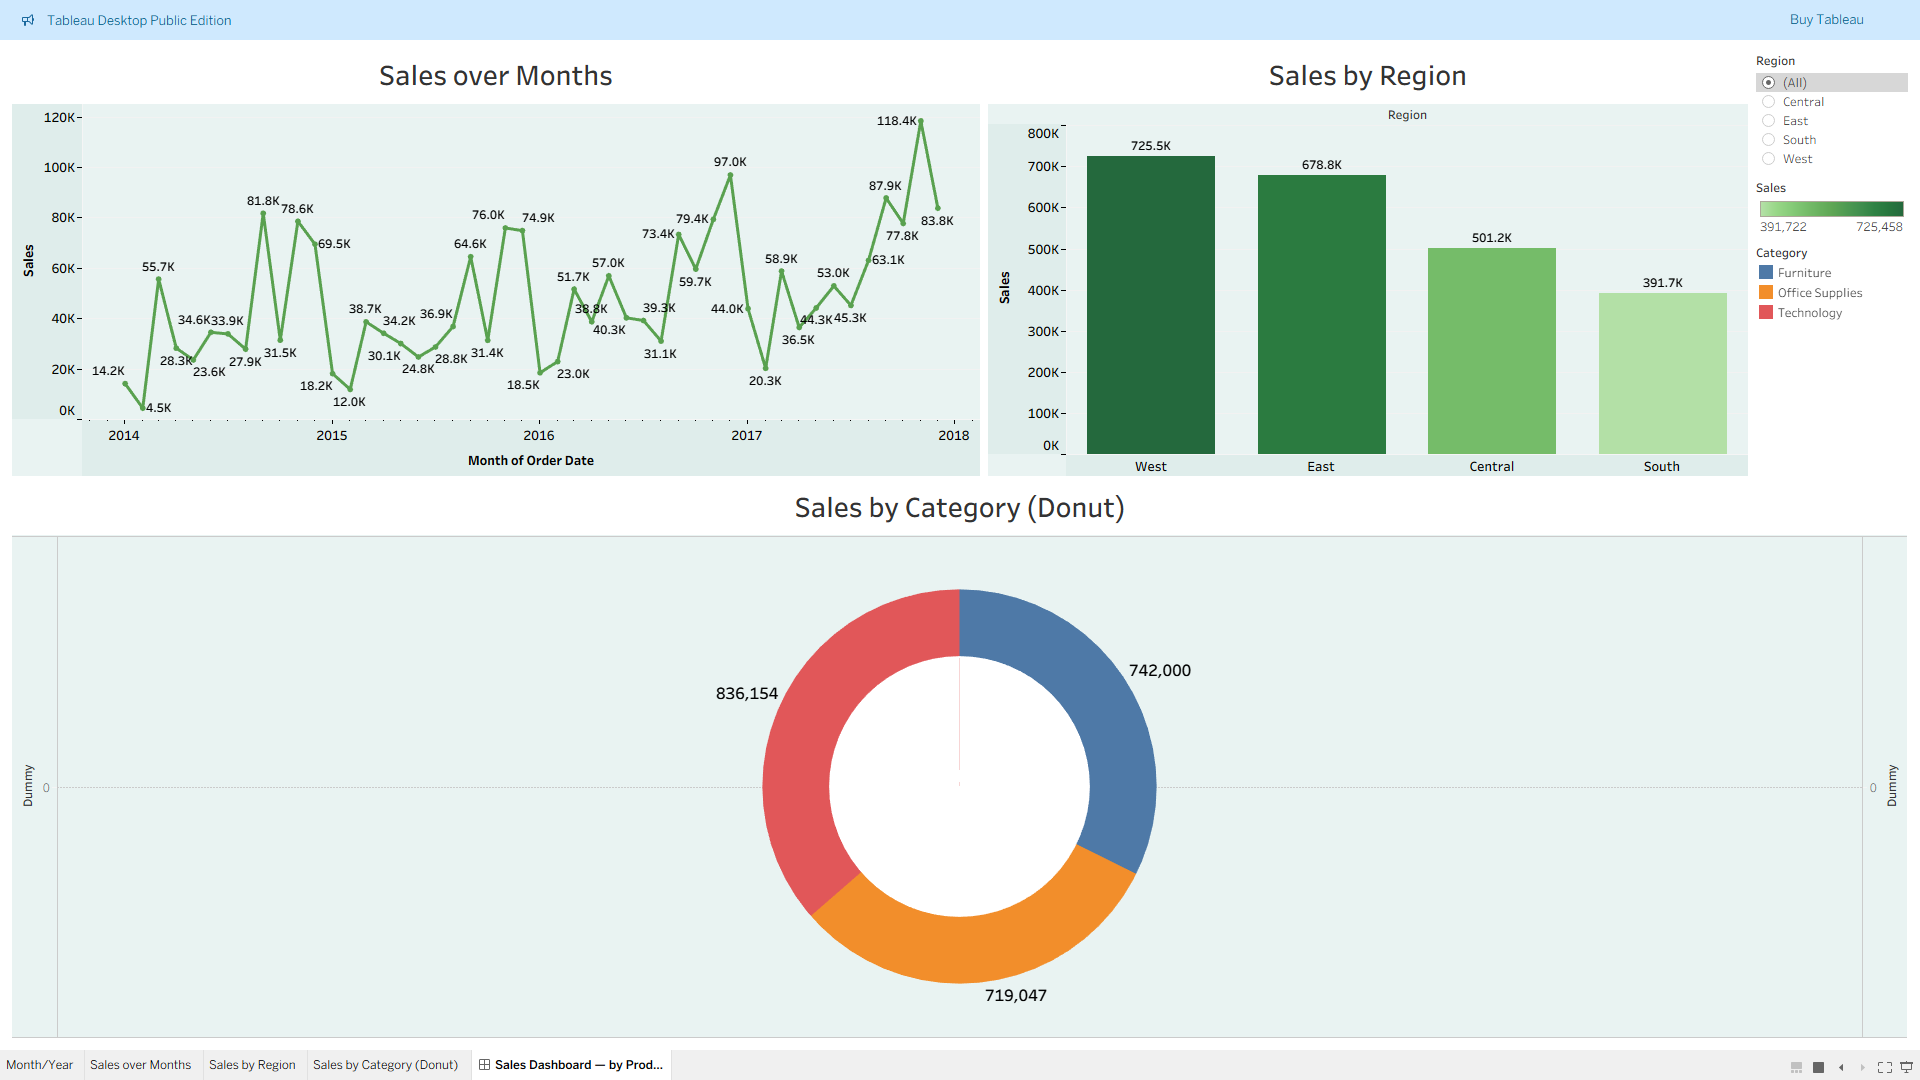

The page's visual inventory and layout, read from the dashboard file:
{"tool":"tableau","page":{"name":"Sales Dashboard — by Product, Region & Month”.","canvas":[1000,1000],"units":"permille","ordinal":0},"visuals":[{"type":"worksheet","title":"Sales over Months","mark":"Automatic","rows":["Sales"],"cols":["Order Date"],"box":[4.7,9.3,502,426.4]},{"type":"worksheet","title":"Sales by Region","mark":"Automatic","rows":["Sales"],"cols":["Region"],"box":[506.7,9.3,395,426.4]},{"type":"filter","title":"Sales by Region","param":"[federated.0xuno9h16kyunw12g097d1m932nj].[none:Region:nk]","box":[901.7,9.3,93.6,148.4]},{"type":"legend","title":"Sales by Region","param":"[federated.0xuno9h16kyunw12g097d1m932nj].[sum:Sales:qk]","box":[901.7,157.7,93.6,75.9]},{"type":"legend","title":"Sales by Category (Donut)","param":"[federated.0xuno9h16kyunw12g097d1m932nj].[none:Category:nk]","box":[901.7,233.7,93.6,100.5]},{"type":"worksheet","title":"Sales by Category (Donut)","mark":"Pie","rows":["Calculation_1925288901791645698","Calculation_1925288901791645698"],"box":[4.7,435.7,990.6,554.9]}]}

Visuals, with their boxes on the dashboard's canvas, which has no fixed pixel size, in thousandths of its width and height (x1, y1, x2, y2). These are canvas units, not pixel positions in the 1920x1080 screenshot, which may show the page scaled, cropped or inside an application window:
"Sales over Months" worksheet: l=5, t=9, r=507, b=436
"Sales by Region" worksheet: l=507, t=9, r=902, b=436
"Sales by Region" filter: l=902, t=9, r=995, b=158
"Sales by Region" legend: l=902, t=158, r=995, b=234
"Sales by Category (Donut)" legend: l=902, t=234, r=995, b=334
"Sales by Category (Donut)" worksheet (Pie marks): l=5, t=436, r=995, b=991
